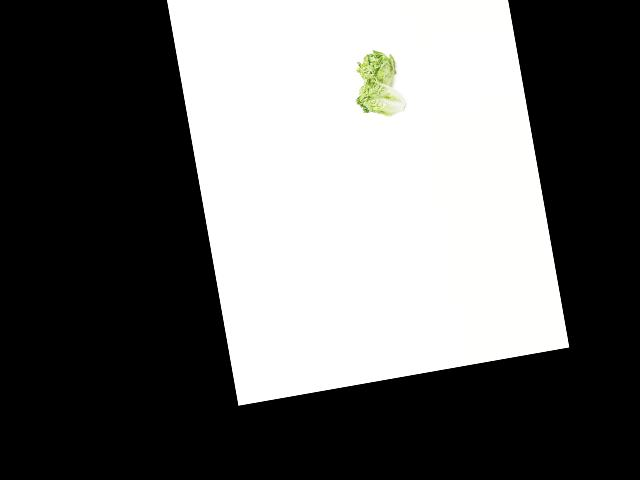lettuce: (353, 45, 405, 95)
